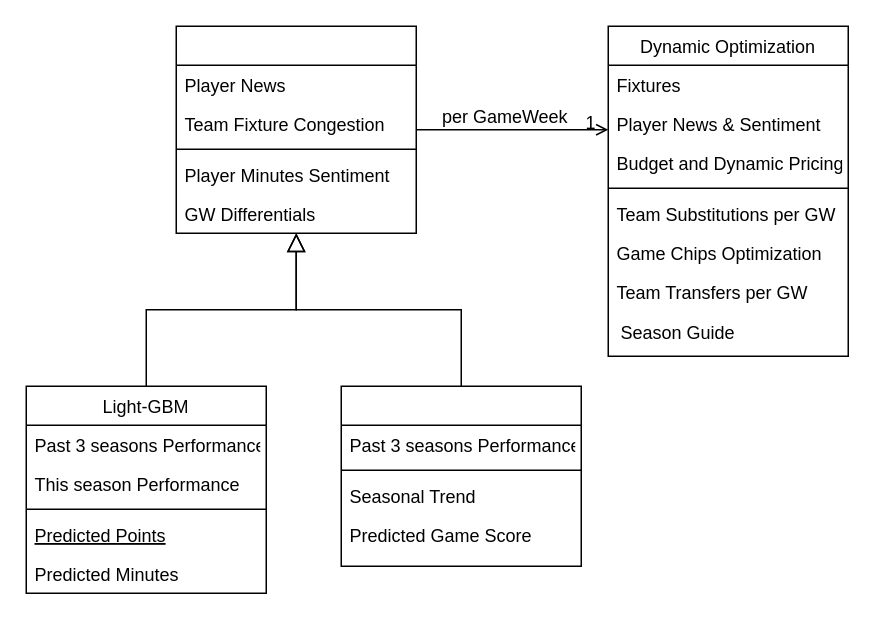
Some shapes in this 875 by 624 pixel diagram are drawn without their labels. Each missing label, with the box of its shape:
SARIMAX: (340, 385, 581, 566)
Sentiment Analysis: (175, 25, 416, 233)
